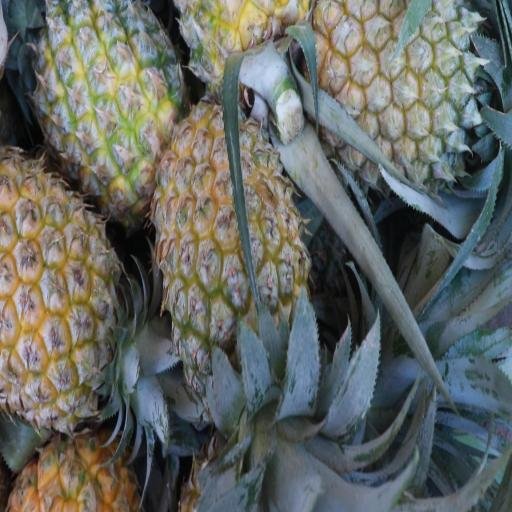------------------------------: (155, 104, 295, 367)
Pineapple - v8 v1: (0, 176, 141, 429), (35, 0, 173, 209)
